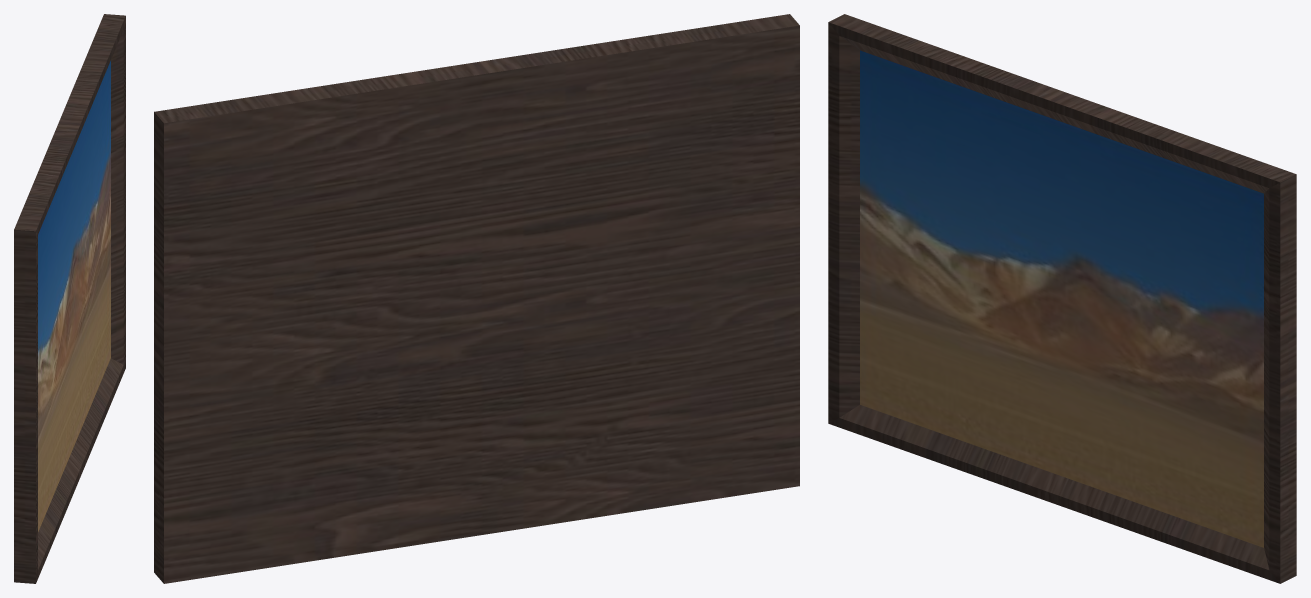
The picture shows the model from 3 angles, left to right: view 1: azimuth 30°, elevation 25°; view 2: azimuth 150°, elevation 25°; view 3: azimuth 270°, elevation 25°; orthographic projection. The views are drawn at different scales.
Visible parts, largest first — view 1: Paintings_02001_Wood_02002_0, Paintings_02001_Paintings_0; view 2: Paintings_02001_Wood_02002_0; view 3: Paintings_02001_Paintings_0, Paintings_02001_Wood_02002_0.
Boxes of the visible parts, x1,y1,x2,y2 form: Paintings_02001_Wood_02002_0: (14,14,125,583); Paintings_02001_Paintings_0: (38,60,110,531); Paintings_02001_Wood_02002_0: (154,14,799,583); Paintings_02001_Paintings_0: (860,50,1263,547); Paintings_02001_Wood_02002_0: (828,14,1296,583).
Bounding box in the file's own units: 0.7954 × 0.884 × 0.9343.
Materials: 2 (2 with a texture image).
